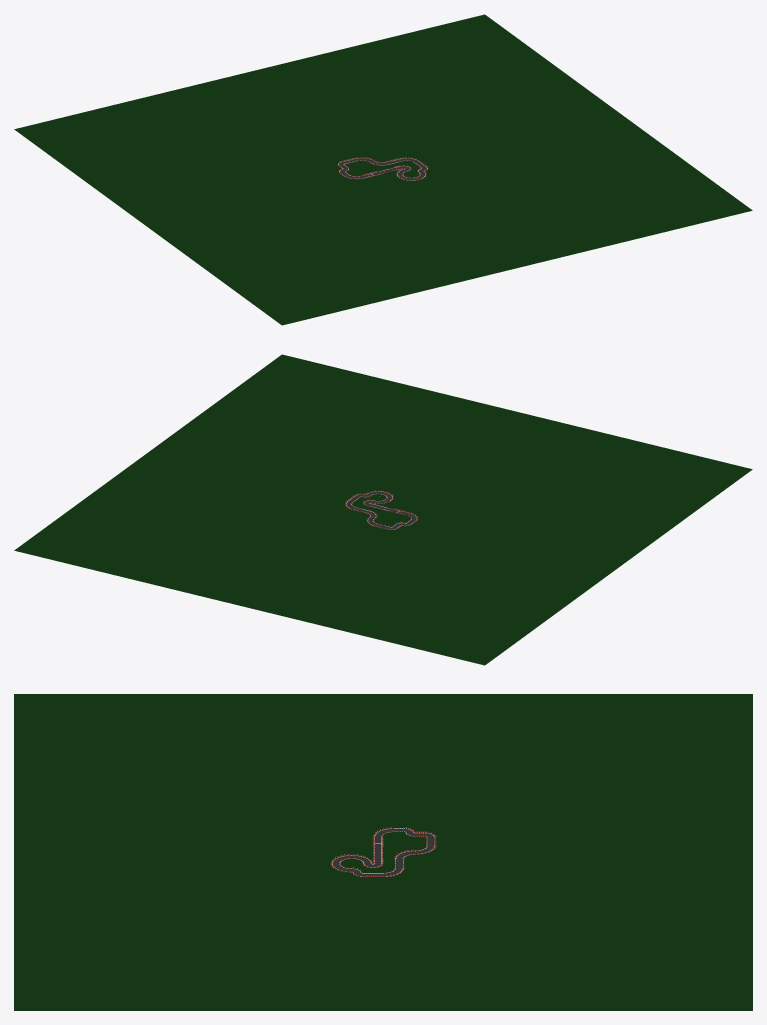
File: RaceCircuit.fbx
3 renders of one model, top to bottom at view 1: azimuth 30°, elevation 25°; view 2: azimuth 150°, elevation 25°; view 3: azimuth 270°, elevation 25°, orthographic. The views are drawn at different scales.
Parts seen in each view (by area): view 1: Lawn_plane_15m_free_obs__14_, Lawn_plane_15m_free_obs__15_, Lawn_plane_15m_free_obs__12_, Lawn_plane_15m_free_obs__13_, Lawn_plane_15m_free_obs__6_; view 2: Lawn_plane_15m_free_obs__14_, Lawn_plane_15m_free_obs__15_, Lawn_plane_15m_free_obs__13_, Lawn_plane_15m_free_obs__12_, Lawn_plane_15m_free_obs__6_; view 3: Lawn_plane_15m_free_obs__15_, Lawn_plane_15m_free_obs__14_, Lawn_plane_15m_free_obs__13_, Lawn_plane_15m_free_obs__12_, Lawn_plane_15m_free_obs__6_, Lawn_plane_15m_free_obs__11_.
Part boxes in pixels (bbox=[...]): Lawn_plane_15m_free_obs__14_: bbox=[14, 81, 480, 325]; Lawn_plane_15m_free_obs__15_: bbox=[286, 14, 752, 258]; Lawn_plane_15m_free_obs__12_: bbox=[367, 175, 553, 276]; Lawn_plane_15m_free_obs__13_: bbox=[213, 63, 399, 164]; Lawn_plane_15m_free_obs__6_: bbox=[351, 172, 405, 192]; Lawn_plane_15m_free_obs__14_: bbox=[286, 421, 752, 665]; Lawn_plane_15m_free_obs__15_: bbox=[14, 354, 480, 598]; Lawn_plane_15m_free_obs__13_: bbox=[213, 515, 399, 616]; Lawn_plane_15m_free_obs__12_: bbox=[367, 403, 553, 504]; Lawn_plane_15m_free_obs__6_: bbox=[384, 495, 438, 515]; Lawn_plane_15m_free_obs__15_: bbox=[14, 877, 752, 1010]; Lawn_plane_15m_free_obs__14_: bbox=[14, 694, 752, 827]; Lawn_plane_15m_free_obs__13_: bbox=[436, 828, 752, 876]; Lawn_plane_15m_free_obs__12_: bbox=[14, 828, 330, 876]; Lawn_plane_15m_free_obs__6_: bbox=[330, 828, 372, 854]; Lawn_plane_15m_free_obs__11_: bbox=[404, 859, 436, 876].
Bounding box in the file's own units: 106500 × 125 × 105000.
Materials: 1 (1 with a texture image).
